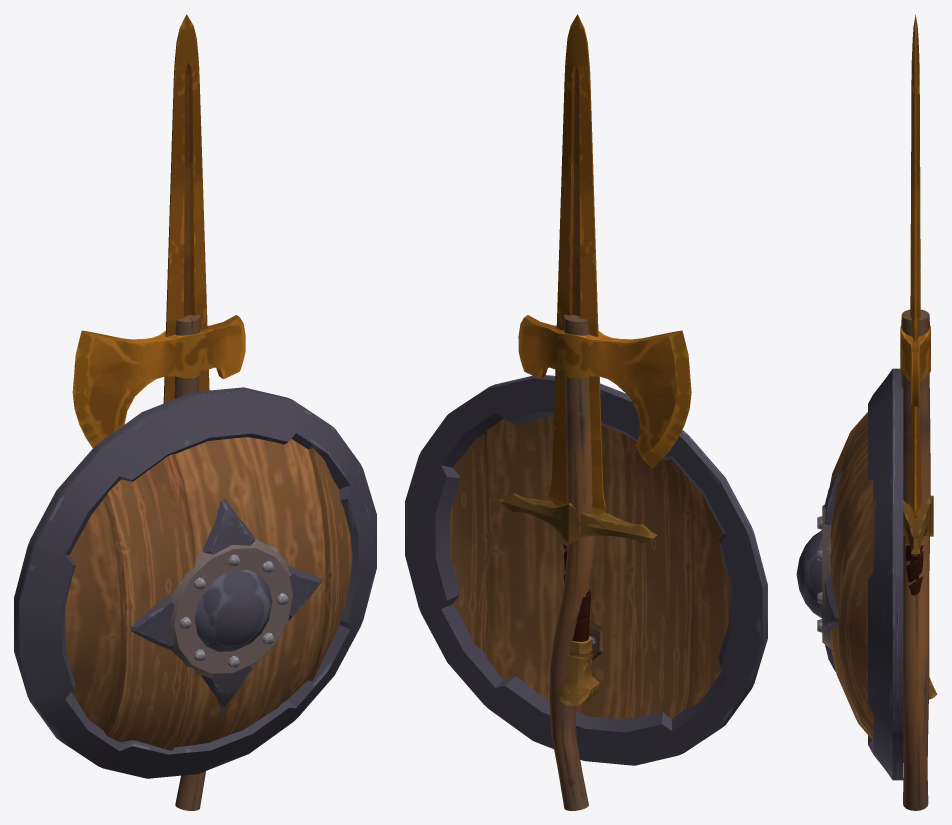
Rendered from weapons.glb.
3 views of the same model, side by side, from view 1: azimuth 30°, elevation 25°; view 2: azimuth 150°, elevation 25°; view 3: azimuth 270°, elevation 25° (orthographic).
Visible parts, largest first — view 1: Shield_Wooden, Axe_Bronze, Sword_Bronze; view 2: Shield_Wooden, Axe_Bronze, Sword_Bronze; view 3: Shield_Wooden, Axe_Bronze, Sword_Bronze.
Boxes of the visible parts, x1,y1,x2,y2 form: Shield_Wooden: (14, 387, 376, 778); Axe_Bronze: (72, 314, 245, 810); Sword_Bronze: (163, 14, 209, 403); Shield_Wooden: (405, 375, 767, 765); Axe_Bronze: (518, 314, 691, 810); Sword_Bronze: (498, 14, 657, 705); Shield_Wooden: (796, 368, 903, 780); Axe_Bronze: (900, 309, 930, 810); Sword_Bronze: (903, 15, 937, 699).
Size of the model in its own units: 0.6146 by 1.3 by 0.2107.
Materials: 3 (3 with a texture image).
